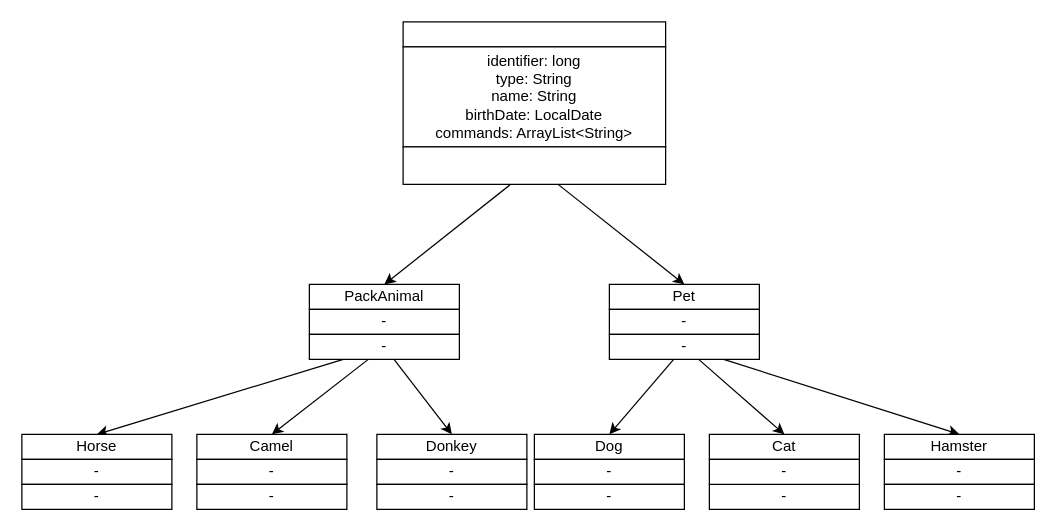
Some shapes in this 1056 by 531 pixel diagram are drawn without their labels. Here are the shapes that lost their labels. From the top down, the centre of each, then its label:
At point (534, 34): "Animal".
At point (534, 165): "getIdentifier(): long addCommand(String command): void".
